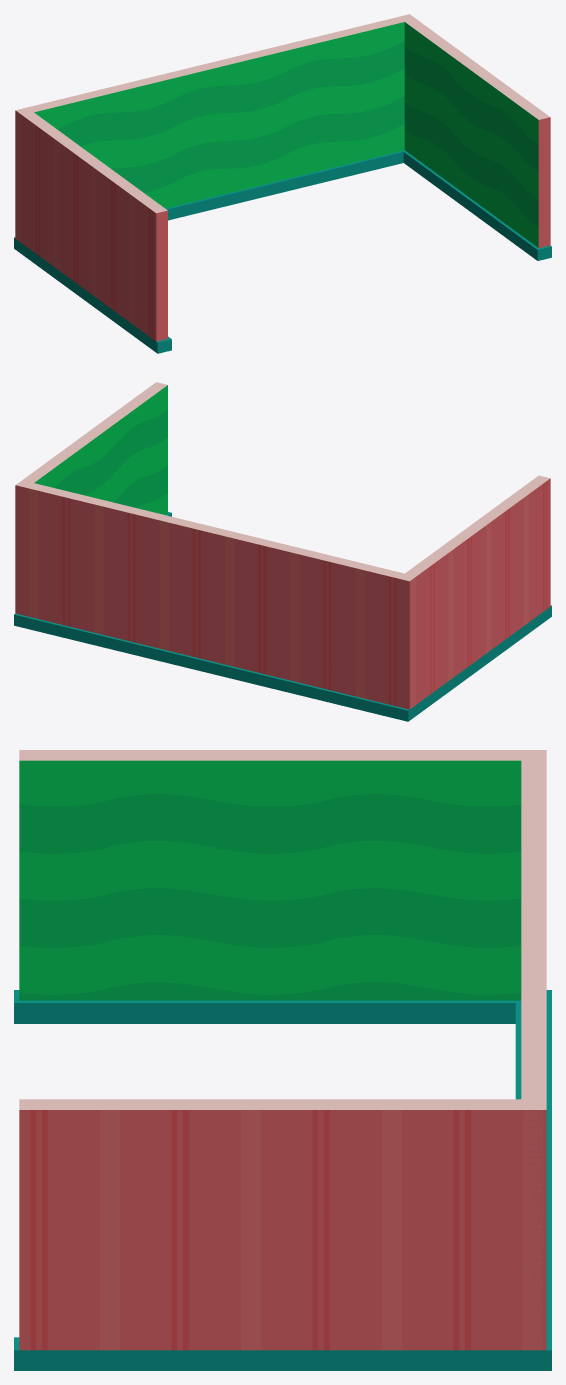
Rendered from Room02-4_Wall_geo.fbx.
3 views of the same model, one above another, from view 1: azimuth 30°, elevation 25°; view 2: azimuth 150°, elevation 25°; view 3: azimuth 270°, elevation 25° (orthographic). The views are drawn at different scales.
Parts seen in each view (by area): view 1: Room02-4_Wall_geo; view 2: Room02-4_Wall_geo; view 3: Room02-4_Wall_geo.
Part boxes in pixels (bbox=[...]): Room02-4_Wall_geo: bbox=[14, 14, 551, 353]; Room02-4_Wall_geo: bbox=[14, 382, 551, 721]; Room02-4_Wall_geo: bbox=[14, 750, 551, 1370].
Size of the model in its own units: 6.03 by 3.81 by 2.04.
